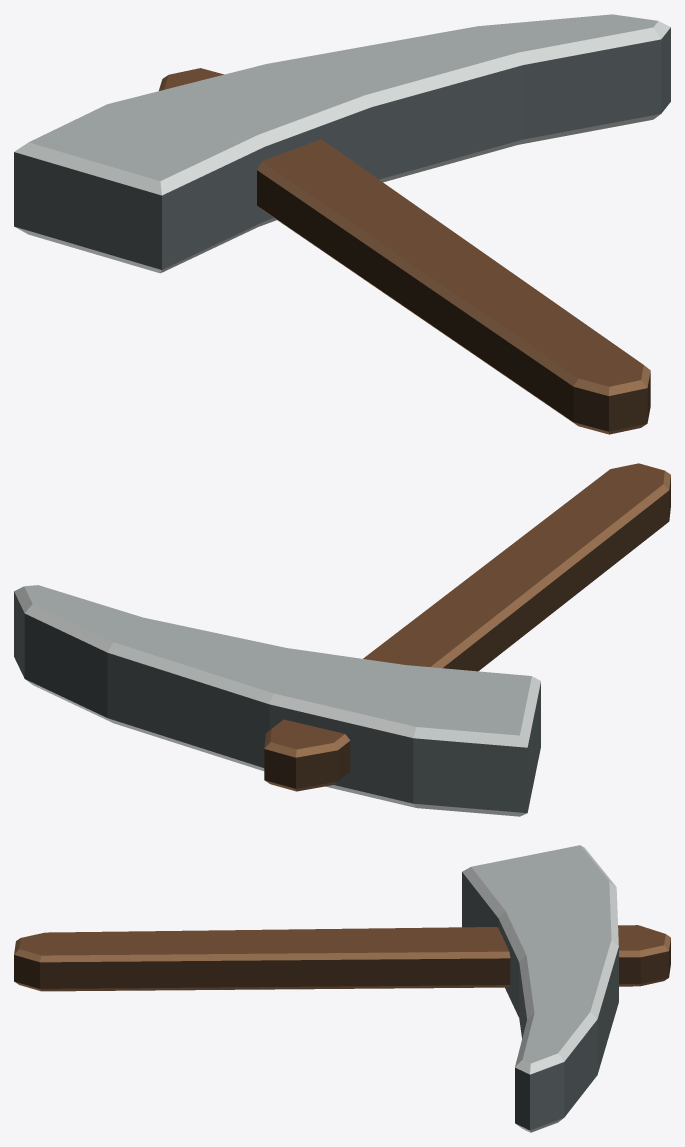
The model's file is stone_pickaxe.fbx.
3 views of the same model, one above another, from view 1: azimuth 30°, elevation 25°; view 2: azimuth 150°, elevation 25°; view 3: azimuth 270°, elevation 25° (orthographic). The views are drawn at different scales.
Visible parts, largest first — view 1: stone_pickaxe; view 2: stone_pickaxe; view 3: stone_pickaxe.
Part boxes in pixels (x1,y1,x2,y2): stone_pickaxe: (14,14,670,434); stone_pickaxe: (14,463,670,816); stone_pickaxe: (14,845,670,1132).
Size of the model in its own units: 1.9 by 0.27 by 2.32.
Materials: 1 (1 with a texture image).
